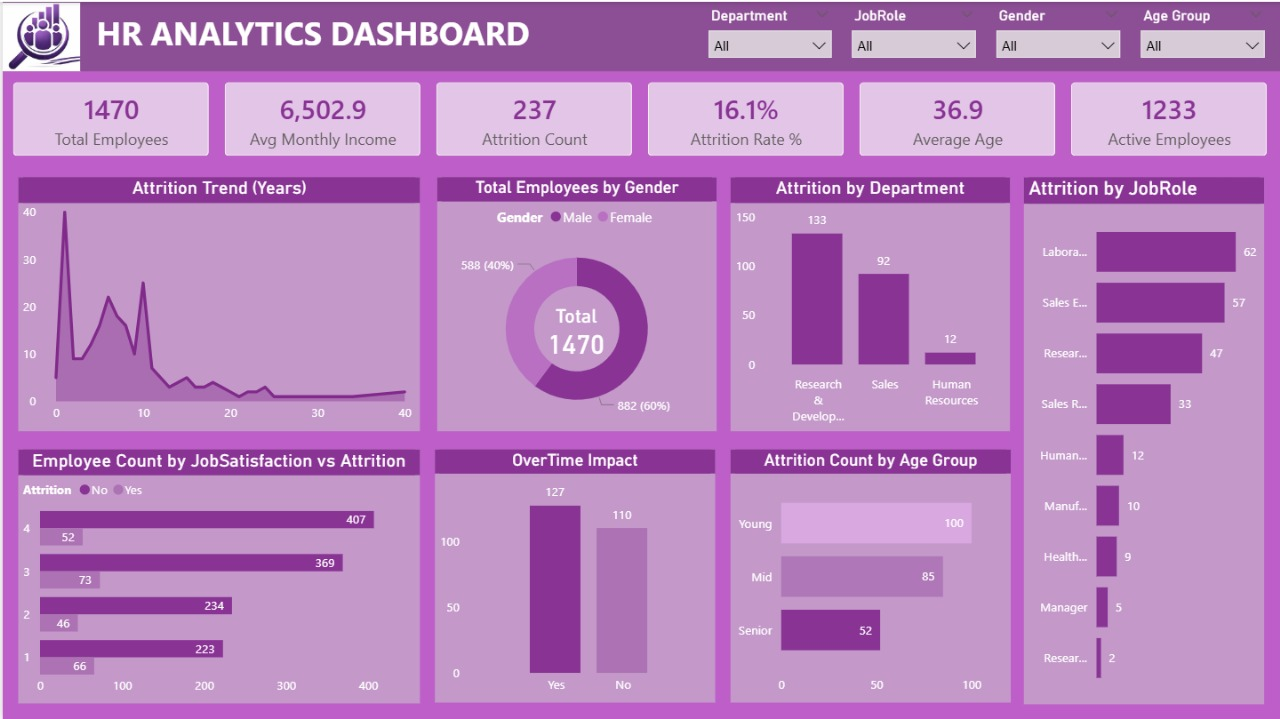

This screenshot's page, from the dashboard's own definition file:
{"tool":"powerbi","page":{"name":"Page 1","canvas":[1280,720],"ordinal":0},"visuals":[{"type":"cardVisual","fields":{"Data":["Employee.Total Employees","Employee.Avg Monthly Income","Employee.Attrition Count","Employee.Attrition Rate","Employee.Average Age","Employee.Active Employees"]},"box":[0,69.8,1280.2,94.2],"z":0},{"type":"shape","box":[0,0,1280.3,70],"z":1000},{"type":"textbox","box":[89.5,4.7,529.1,65.1],"z":2000},{"type":"slicer","fields":{"Values":["Employee.Department"]},"box":[696.9,0,143.6,62.6],"z":3000},{"type":"slicer","fields":{"Values":["Employee.Gender"]},"box":[985.3,0,144.8,65],"z":4000},{"type":"slicer","fields":{"Values":["Employee.Age Group"]},"box":[1130.1,0,144.8,65],"z":5000},{"type":"slicer","fields":{"Values":["Employee.Designation"]},"box":[840.5,0,144.8,62.6],"z":6000},{"type":"actionButton","box":[0,0,99.4,69.9],"z":7000},{"type":"image","box":[0,0,77.9,69.8],"z":8000},{"type":"areaChart","title":"Attrition Trend (Years)","fields":{"Category":["Employee.TotalWorkingYears"],"Y":["Employee.Attrition Count"]},"box":[15.1,175.6,402.3,254.7],"z":14000},{"type":"donutChart","fields":{"Y":["Employee.Total Employees"],"Category":["Employee.Gender"]},"box":[434.9,175.6,280.2,254.7],"z":15000},{"type":"card","title":"Total","fields":{"Values":["Employee.Total Employees"]},"box":[531.4,303.5,87.2,54.7],"z":16000},{"type":"clusteredBarChart","title":"Attrition by JobRole","fields":{"Y":["Employee.Attrition Count"],"Category":["Employee.JobRole"]},"box":[1023.3,175.6,240.7,527.9],"z":17000},{"type":"clusteredColumnChart","title":"Attrition by Department","fields":{"Category":["Employee.Department"],"Y":["Employee.Attrition Count"]},"box":[729.1,175.6,280.2,254.7],"z":19000},{"type":"clusteredColumnChart","title":"OverTime Impact","fields":{"Y":["Employee.Attrition Count"],"Category":["Employee.OverTime"]},"box":[433.1,449.1,281,254],"z":20000},{"type":"clusteredBarChart","title":"Employee Count by JobSatisfaction vs Attrition","fields":{"Category":["Employee.JobSatisfaction"],"Y":["Employee.Employee Count"],"Series":["Employee.Attrition"]},"box":[15.1,448.8,402.3,254.7],"z":21000},{"type":"barChart","fields":{"Category":["Employee.Age Group"],"Y":["Employee.Attrition Count"]},"box":[728.8,449.1,281,254],"z":23000}]}

Visuals, with their boxes in screenshot pixels (x1, y1, x2, y2), scaled from the page's 1280x720 canvas onto the 1280x719 screenshot:
cardVisual - Employee.Total Employees x Employee.Avg Monthly Income: pyautogui.locateOnScreen(0, 70, 1279, 164)
shape: pyautogui.locateOnScreen(0, 0, 1279, 70)
textbox: pyautogui.locateOnScreen(90, 5, 619, 70)
slicer - Employee.Department: pyautogui.locateOnScreen(697, 0, 840, 63)
slicer - Employee.Gender: pyautogui.locateOnScreen(985, 0, 1130, 65)
slicer - Employee.Age Group: pyautogui.locateOnScreen(1130, 0, 1275, 65)
slicer - Employee.Designation: pyautogui.locateOnScreen(840, 0, 985, 63)
actionButton: pyautogui.locateOnScreen(0, 0, 99, 70)
image: pyautogui.locateOnScreen(0, 0, 78, 70)
"Attrition Trend (Years)" areaChart: pyautogui.locateOnScreen(15, 175, 417, 430)
donutChart - Employee.Total Employees x Employee.Gender: pyautogui.locateOnScreen(435, 175, 715, 430)
"Total" card: pyautogui.locateOnScreen(531, 303, 619, 358)
"Attrition by JobRole" clusteredBarChart: pyautogui.locateOnScreen(1023, 175, 1264, 703)
"Attrition by Department" clusteredColumnChart: pyautogui.locateOnScreen(729, 175, 1009, 430)
"OverTime Impact" clusteredColumnChart: pyautogui.locateOnScreen(433, 448, 714, 702)
"Employee Count by JobSatisfaction vs Attrition" clusteredBarChart: pyautogui.locateOnScreen(15, 448, 417, 703)
barChart - Employee.Age Group x Employee.Attrition Count: pyautogui.locateOnScreen(729, 448, 1010, 702)
